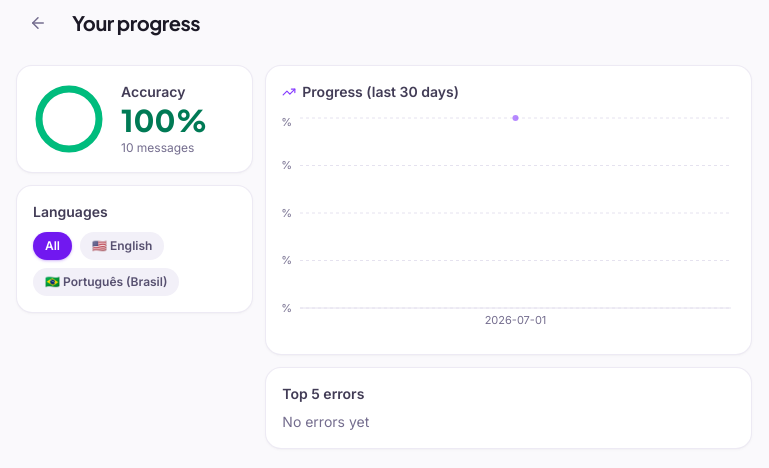
Test: Dashboard pessoal (Fatia 3 + 4) › clicar num idioma filtra as estatísticas para aquele idioma
Expected: the text "100%" is shown, top-left (121, 102), bottom-right (208, 138)
What coordinates should you click on to do the following:
click the button "🇧🇷 Português (Brasil)"
I would click on:
 (106, 282)
Its box is top-left (33, 268), bottom-right (179, 296).
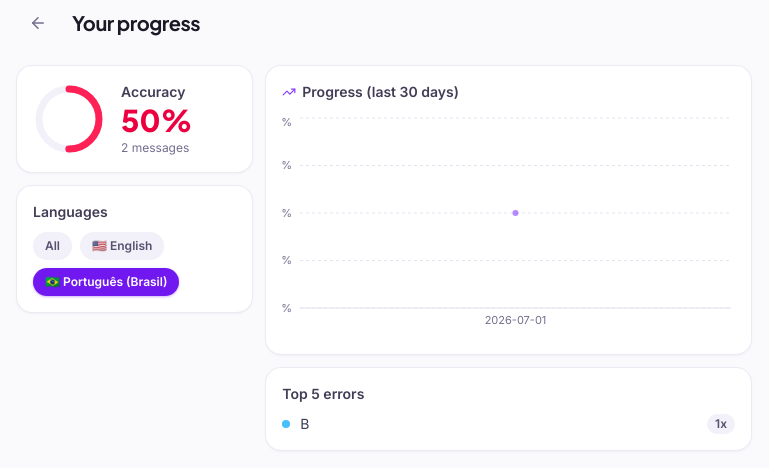
Expected: the text "50%" is shown, top-left (121, 102), bottom-right (192, 138)
